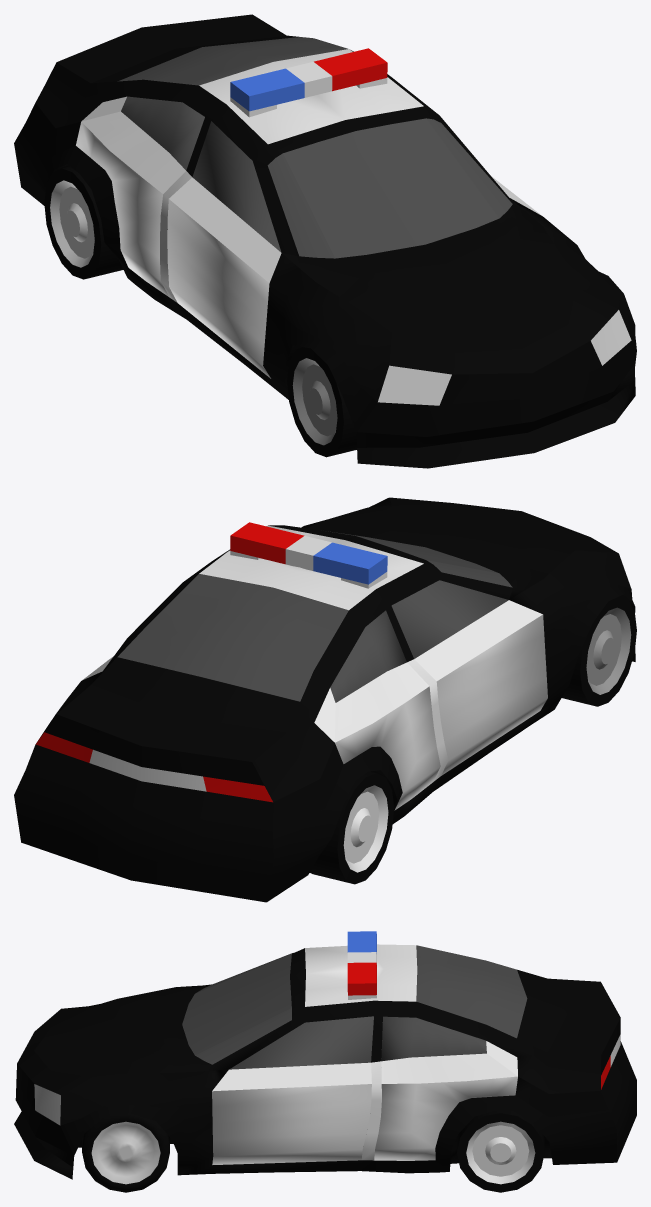
Rendered from police.glb.
3 renders of one model, top to bottom at view 1: azimuth 30°, elevation 25°; view 2: azimuth 150°, elevation 25°; view 3: azimuth 270°, elevation 25°, orthographic. The views are drawn at different scales.
Visible parts, largest first — view 1: CARRO_police, PORTA_police.000, PORTA_police.001, RODAS.024, RODAS.026; view 2: CARRO_police, PORTA_police.000, PORTA_police.001, RODAS.024, RODAS.026; view 3: CARRO_police, PORTA_police.002, PORTA_police.003, RODAS.024, RODAS.025.
Boxes of the visible parts, box(x1,y1,x2,y2) form: CARRO_police: box(14, 14, 635, 468); PORTA_police.000: box(167, 121, 281, 378); PORTA_police.001: box(76, 96, 204, 296); RODAS.024: box(44, 166, 123, 279); RODAS.026: box(287, 347, 356, 457); CARRO_police: box(14, 497, 635, 902); PORTA_police.000: box(391, 580, 547, 775); PORTA_police.001: box(314, 610, 440, 810); RODAS.024: box(309, 771, 394, 884); RODAS.026: box(562, 596, 636, 706); CARRO_police: box(14, 931, 636, 1179); PORTA_police.002: box(212, 1016, 373, 1164); PORTA_police.003: box(374, 1016, 517, 1160); RODAS.024: box(457, 1110, 544, 1192); RODAS.025: box(82, 1113, 169, 1192).
Bounding box in the file's own units: 1.85 × 1.38 × 4.31.
